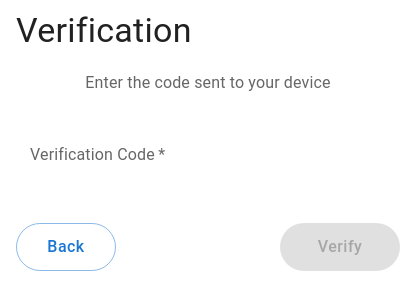
Test: VerificationCode Component › verify button should be enabled when code is entered
# Enter verification code
Type "12345" into the field at coordinates (208, 155), box [16,127,400,183]
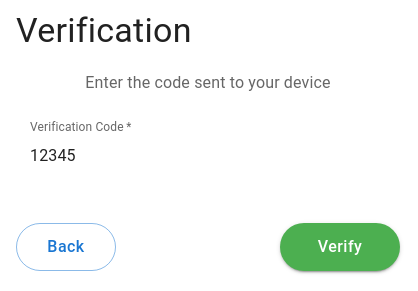
Check: the button "Verify" is enabled, box [280,223,400,271]
